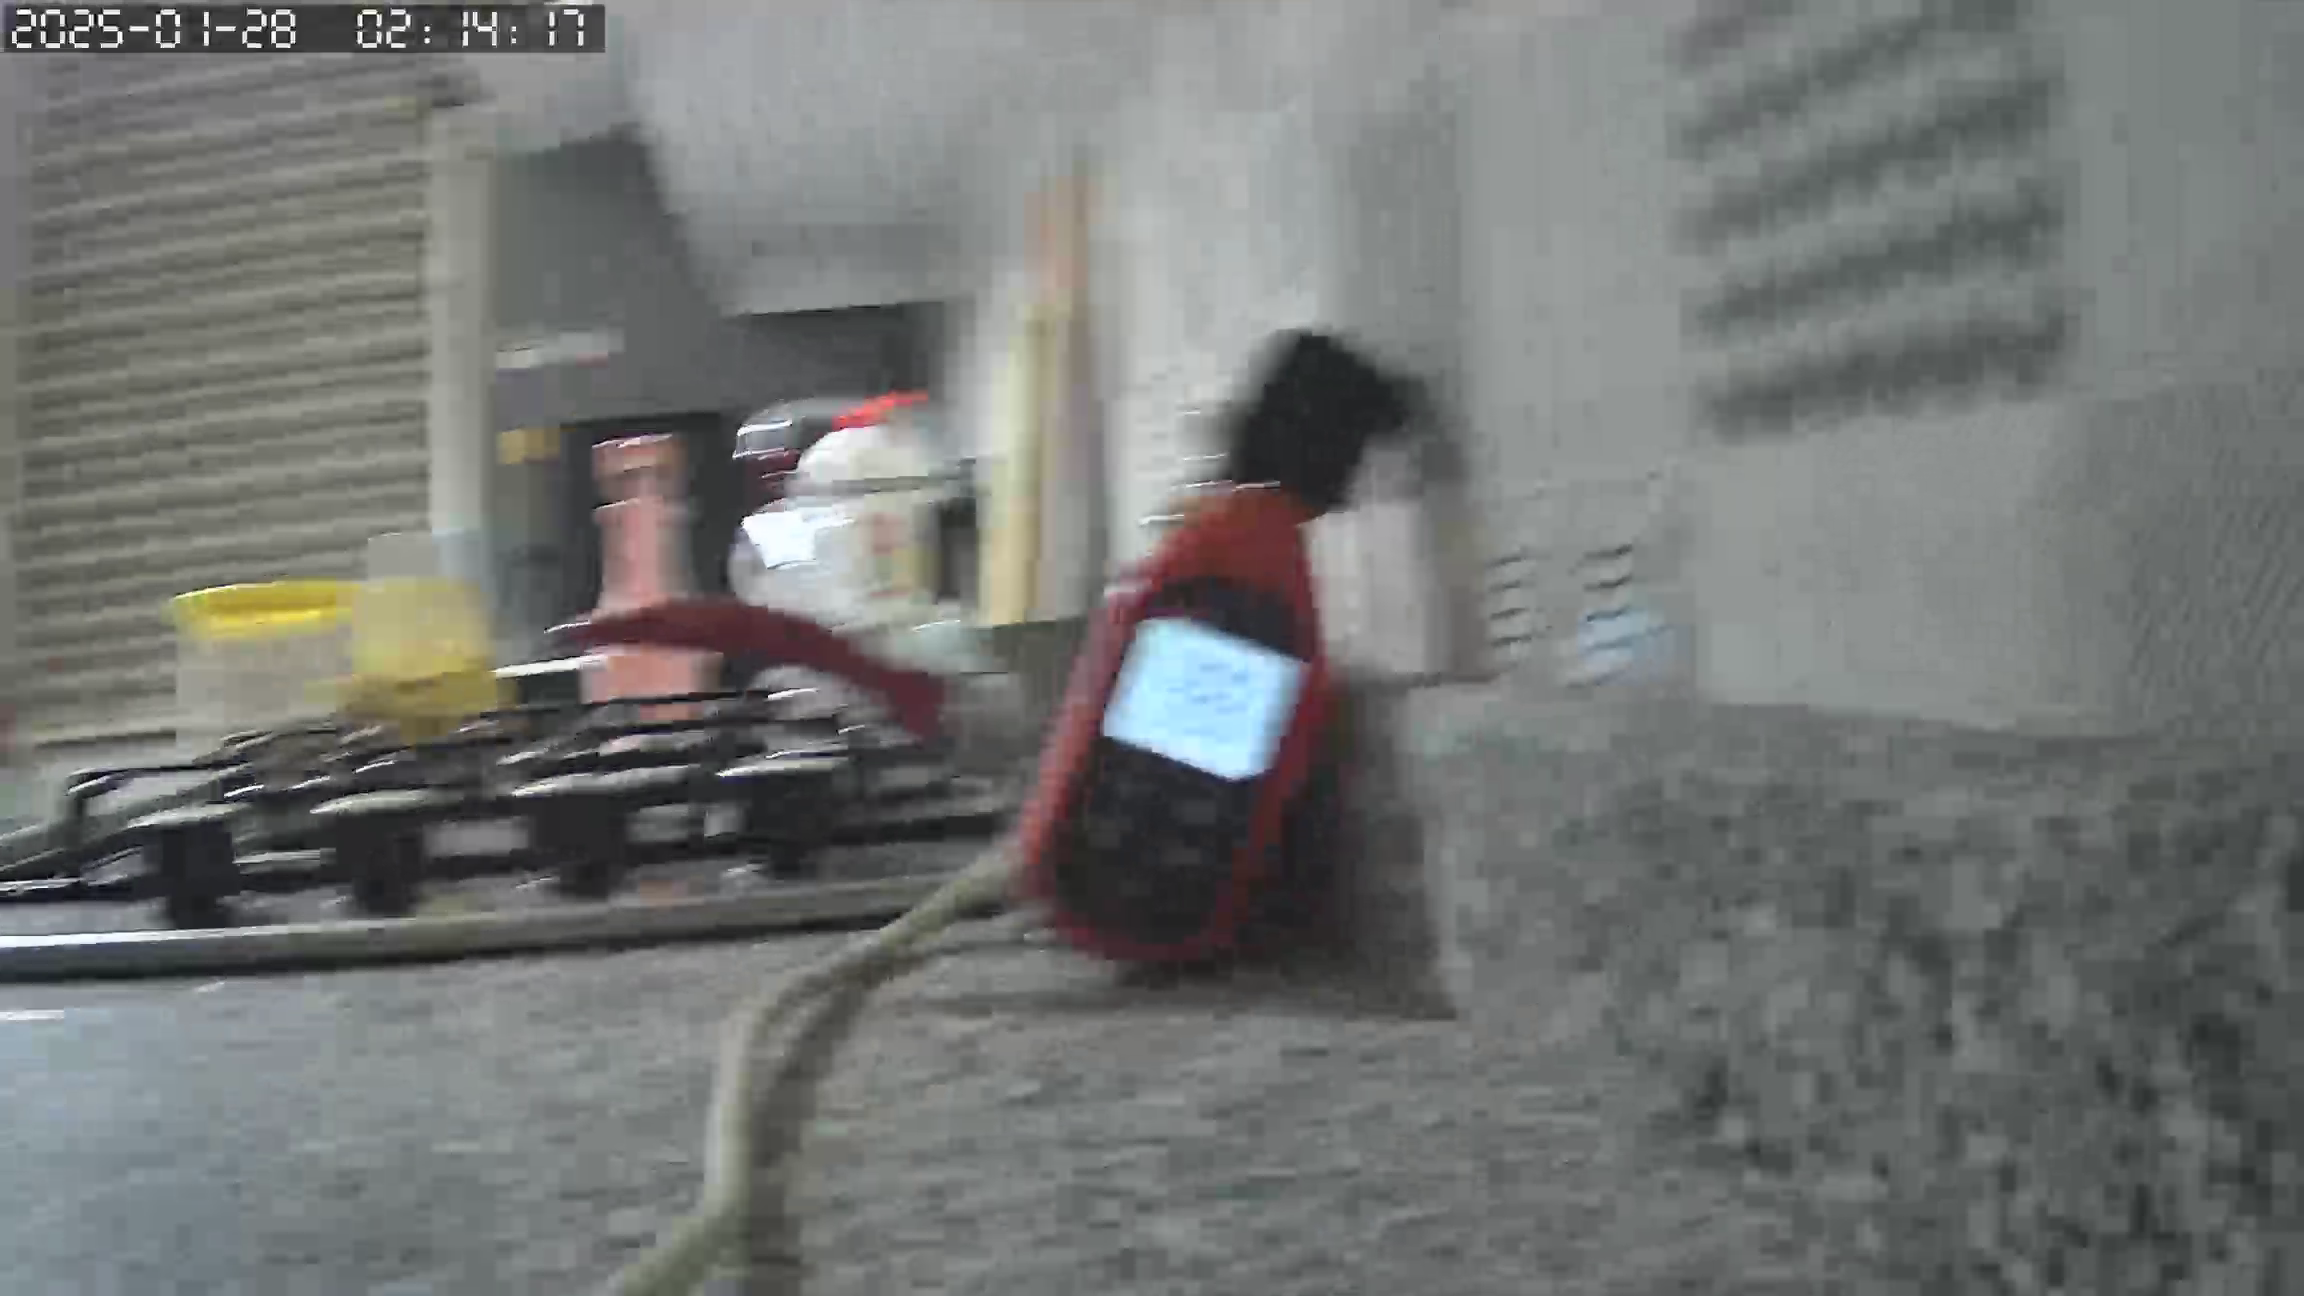screen: (1109, 616, 1309, 779)
